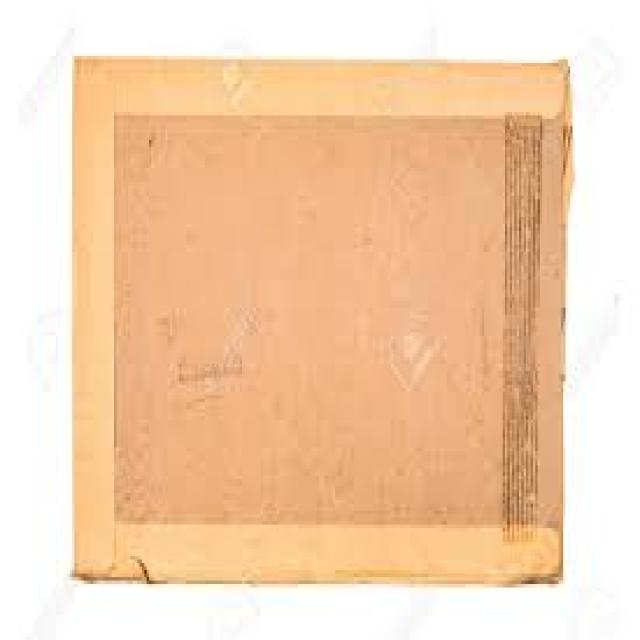cardboard: (70, 53, 572, 581)
